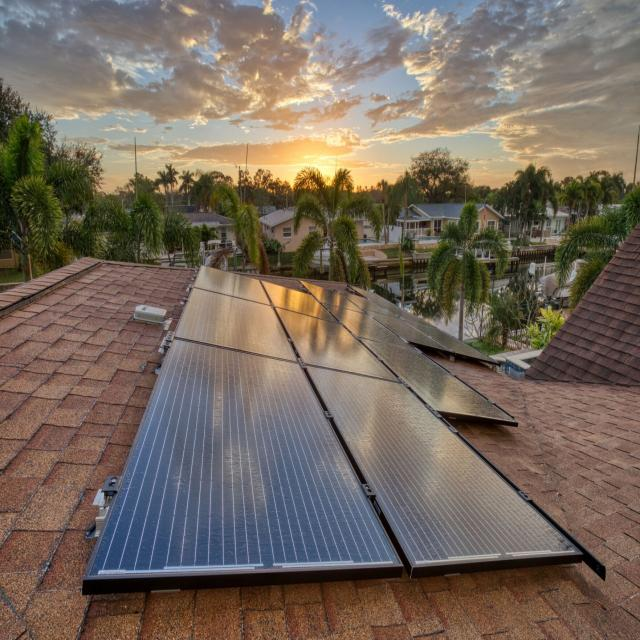clean-solar-panel: (84, 269, 584, 579)
